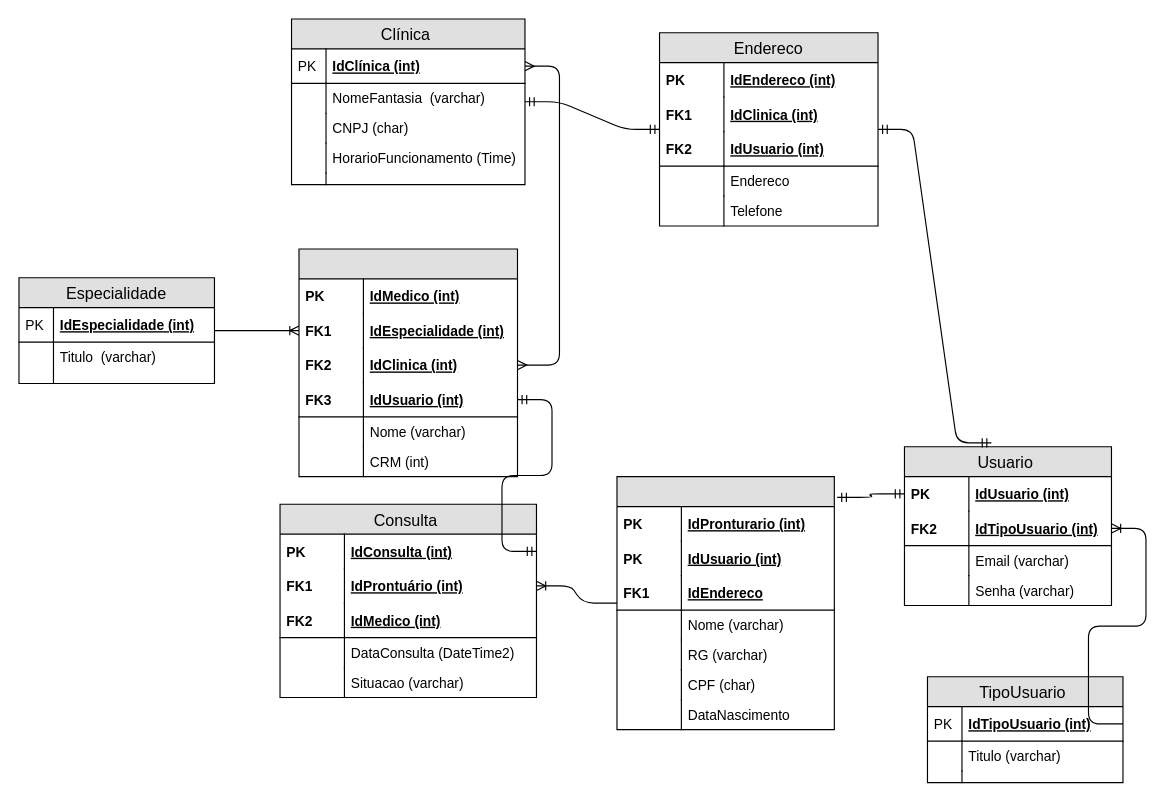
Image size: 1165x802. Some labels were removed from this diagram. Here are the shapes that lost their labels. From the top down, the box of each, then its label:
(298, 248, 518, 477): Médico
(616, 476, 834, 730): Prontuário
